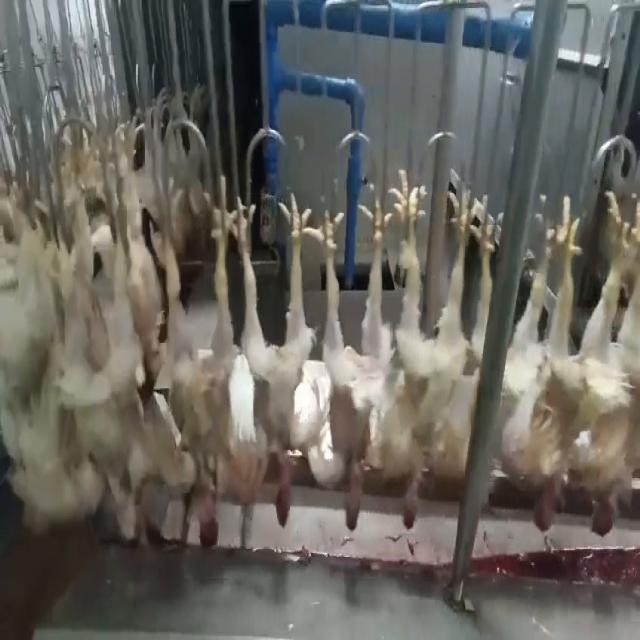chicken: (378, 168, 508, 529), (147, 171, 235, 547), (301, 183, 390, 532), (233, 183, 317, 528), (512, 189, 581, 534), (94, 174, 154, 548), (581, 172, 639, 539)
